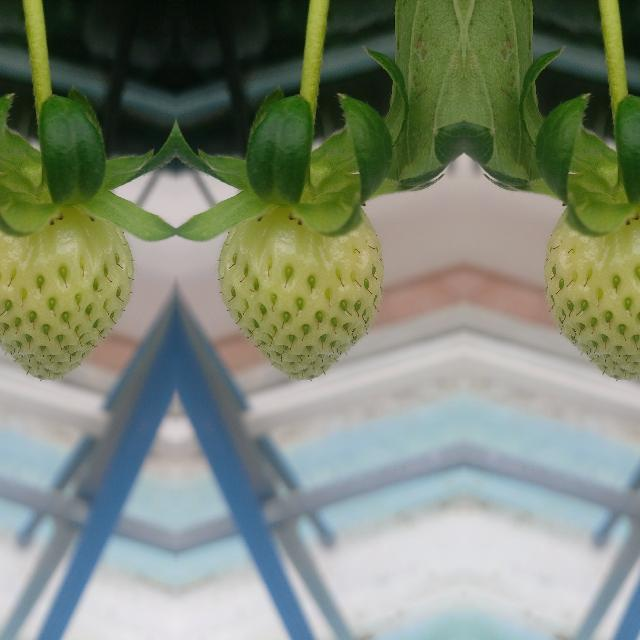Health_25: (217, 207, 383, 379), (0, 207, 133, 379), (543, 207, 640, 379)
